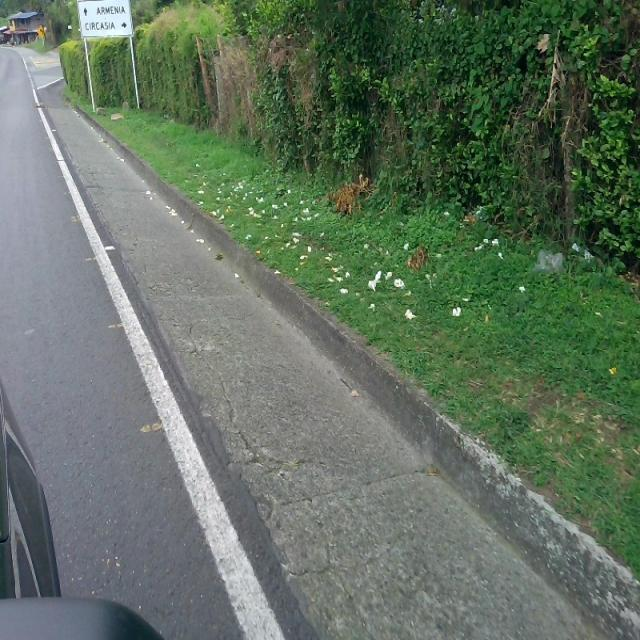DITCH: (8, 45, 638, 638), (1, 76, 638, 638)
